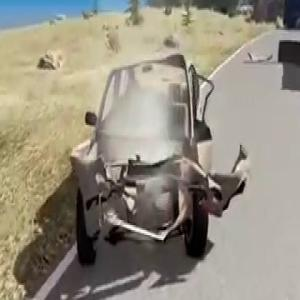critical: (68, 47, 248, 275)
